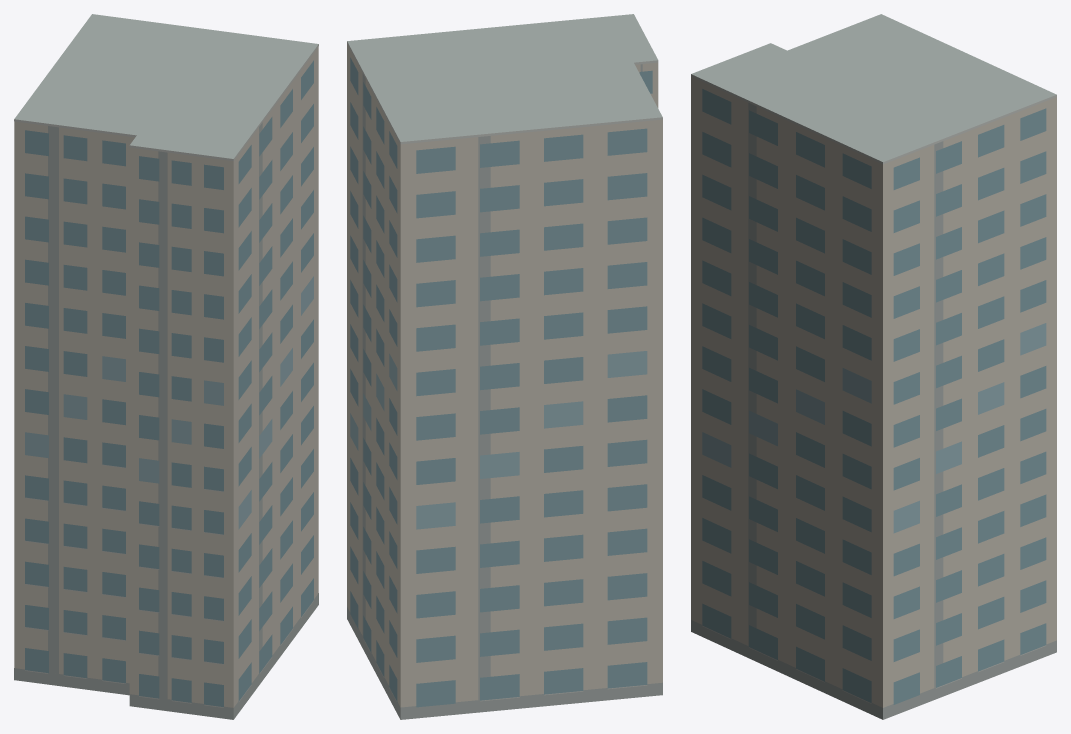
File: residential-9a3d154a-ba6a-4916-8f5d-e4a43d9a4ecf.glb
3 renders of one model, left to right at view 1: azimuth 30°, elevation 25°; view 2: azimuth 150°, elevation 25°; view 3: azimuth 270°, elevation 25°, orthographic. The views are drawn at different scales.
Parts seen in each view (by area): view 1: residential-9a3d154a-ba6a-4916-8f5d-e4a43d9a4ecf.tmp; view 2: residential-9a3d154a-ba6a-4916-8f5d-e4a43d9a4ecf.tmp; view 3: residential-9a3d154a-ba6a-4916-8f5d-e4a43d9a4ecf.tmp.
Part boxes in pixels (x1=…): residential-9a3d154a-ba6a-4916-8f5d-e4a43d9a4ecf.tmp: x1=14, y1=14, x2=318, y2=719; residential-9a3d154a-ba6a-4916-8f5d-e4a43d9a4ecf.tmp: x1=347, y1=14, x2=662, y2=719; residential-9a3d154a-ba6a-4916-8f5d-e4a43d9a4ecf.tmp: x1=691, y1=14, x2=1056, y2=719.
Bounding box in the file's own units: 34.78 × 61 × 36.28.
